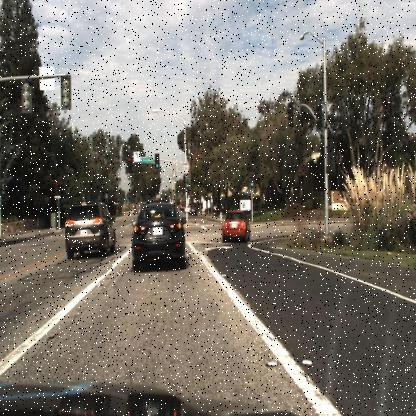car: (132, 202, 182, 272), (64, 201, 119, 256), (223, 208, 253, 244), (188, 202, 200, 221)
trafficLight-Green: (248, 171, 258, 191), (153, 150, 161, 174)
trafficLight-RedLeft: (126, 153, 133, 171)
